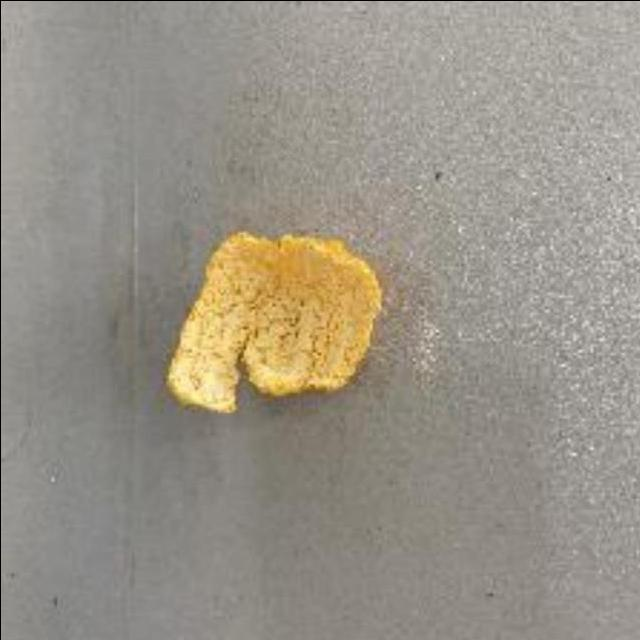orange peel: (158, 223, 386, 421)
